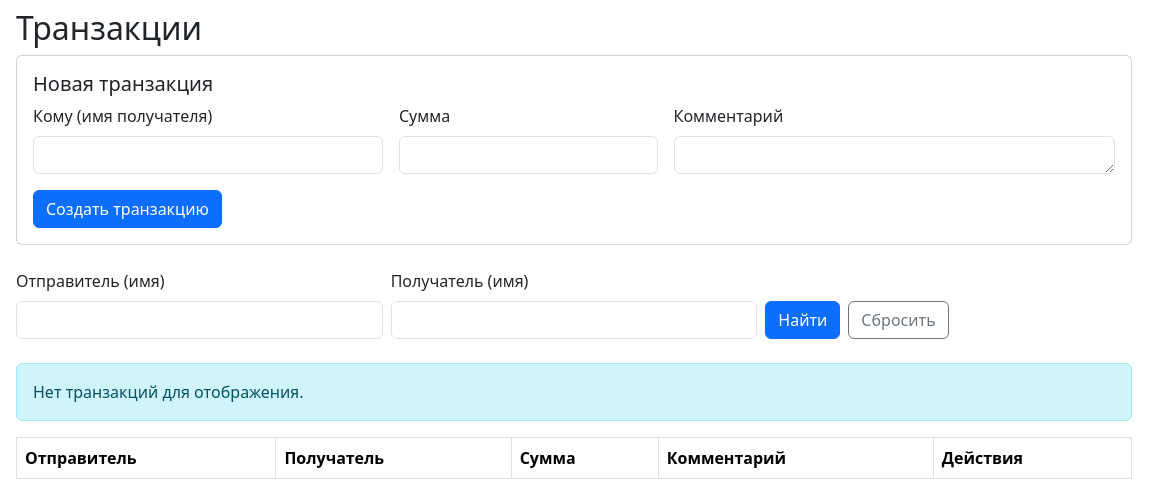
Test: Transactions page › shows validation error when only one participant is set
This screenshot has width=1149, height=496.
Type "User1" into the field labelled "Отправитель (имя)" at (199, 320), box [16,301,383,339]
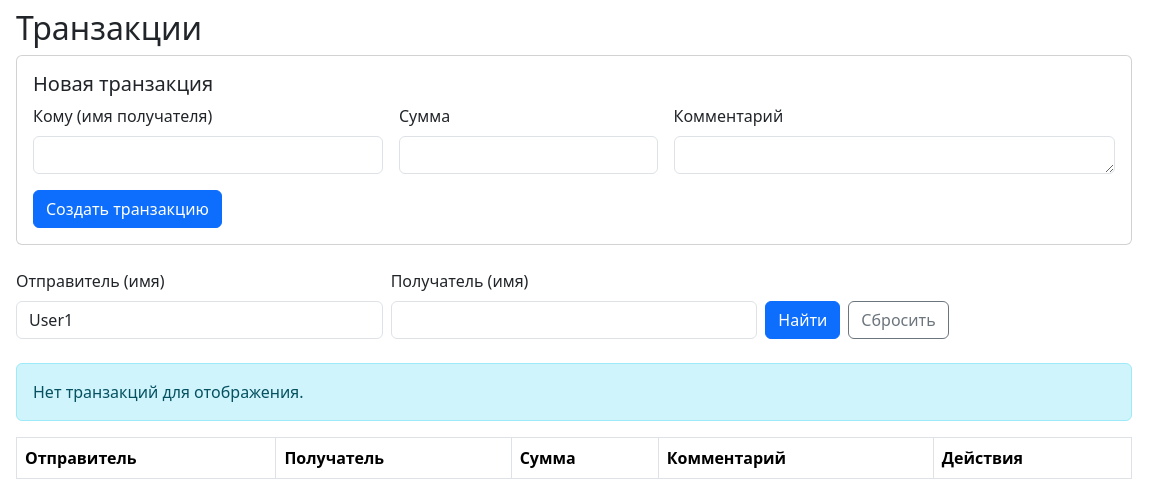
Click the button "Найти" at (803, 320), box [765,301,840,339]
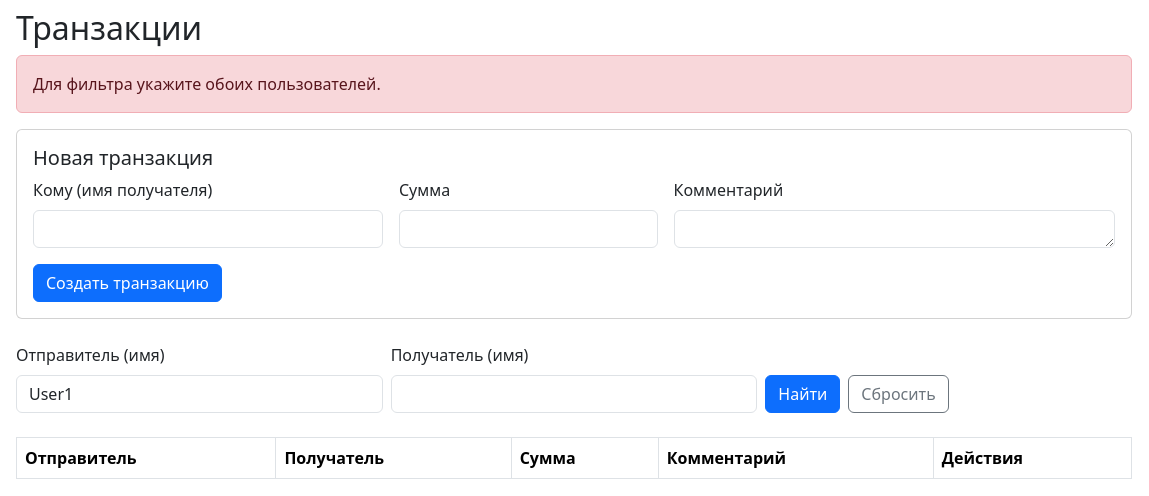
Result: the text "Для фильтра укажите обоих пользователей." is shown at [16,55,1132,113]
